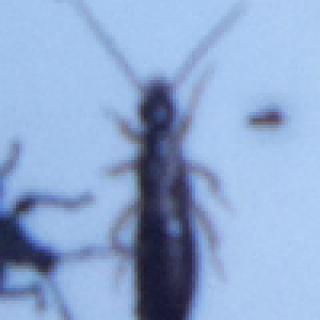earwig: (73, 0, 252, 320)
